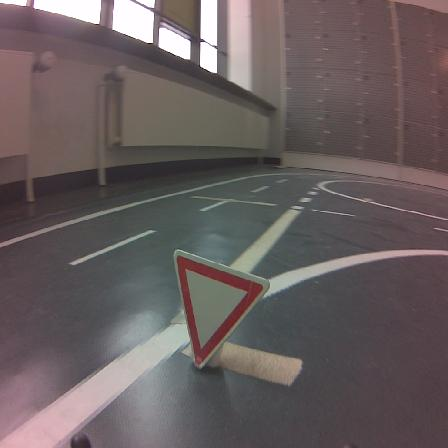GIVE_WAY: (174, 250, 268, 367)
